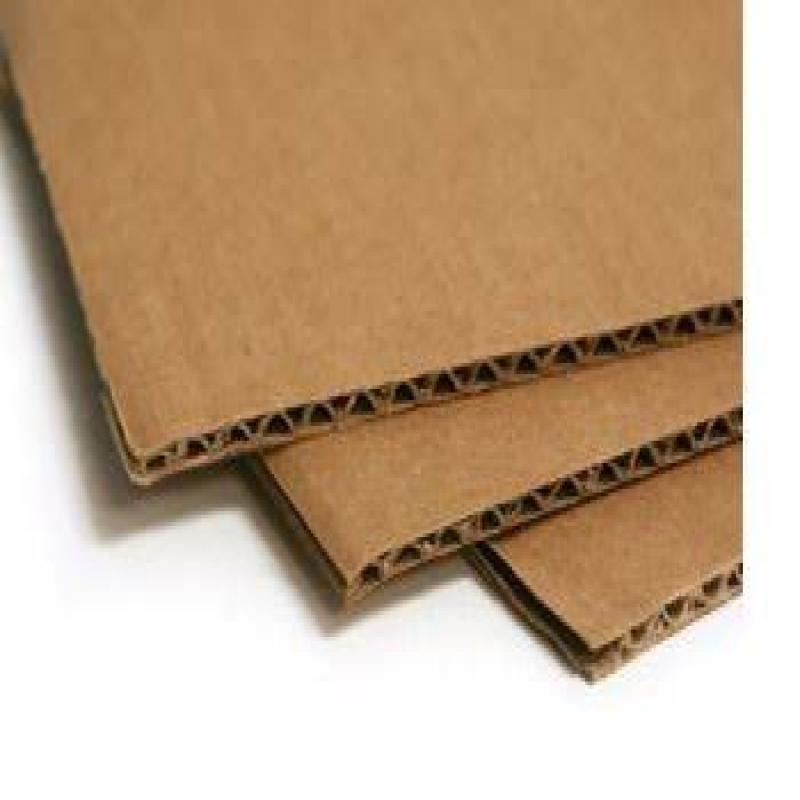cardboard: (0, 0, 747, 489), (247, 330, 743, 604), (469, 441, 743, 681)
